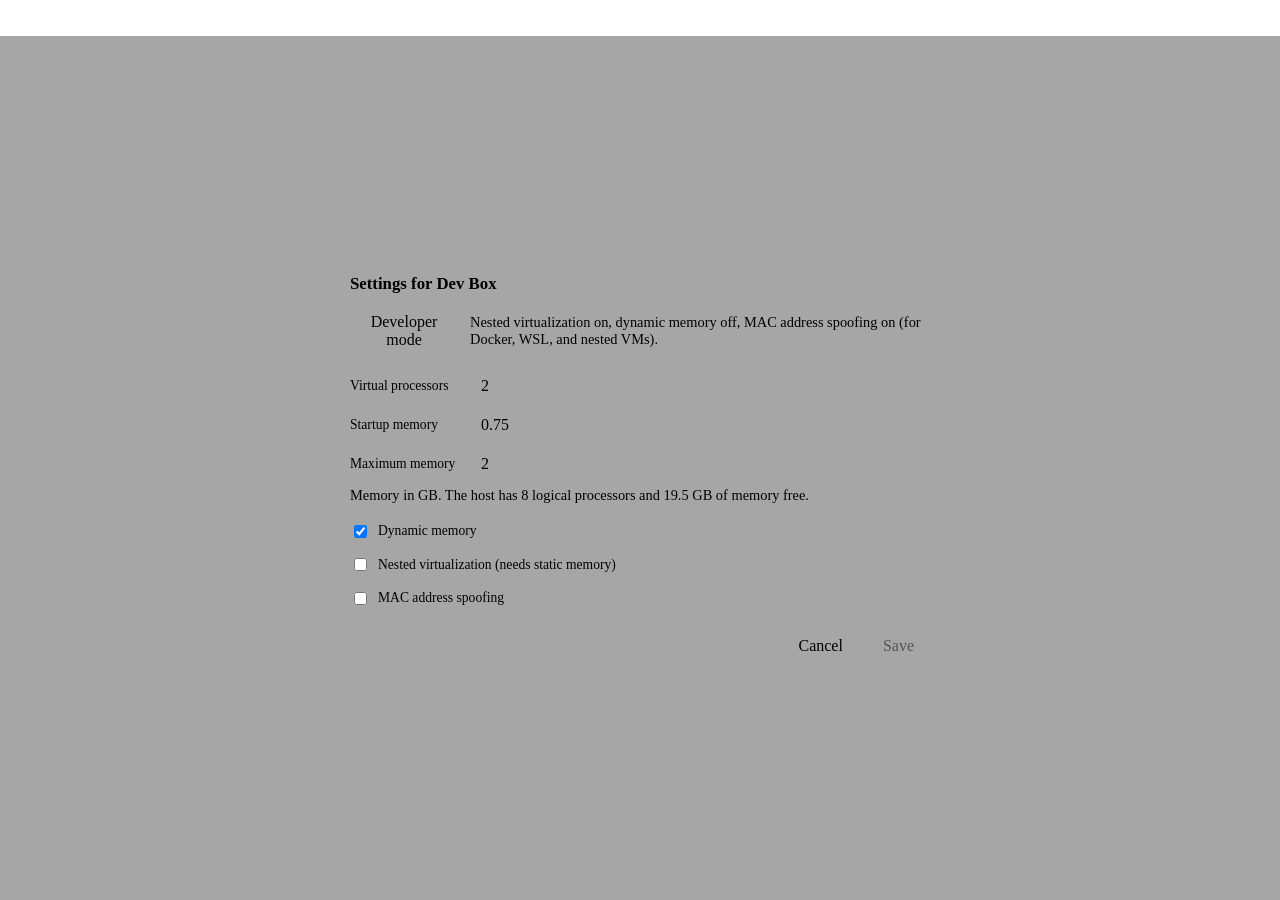
it: ComputeDialog › Developer mode turns on nested virtualization and MAC spoofing and turns off dynamic memory
The image size is (1280, 900).
Click the button "Developer mode" at (404, 331), box [350,306,458,356]
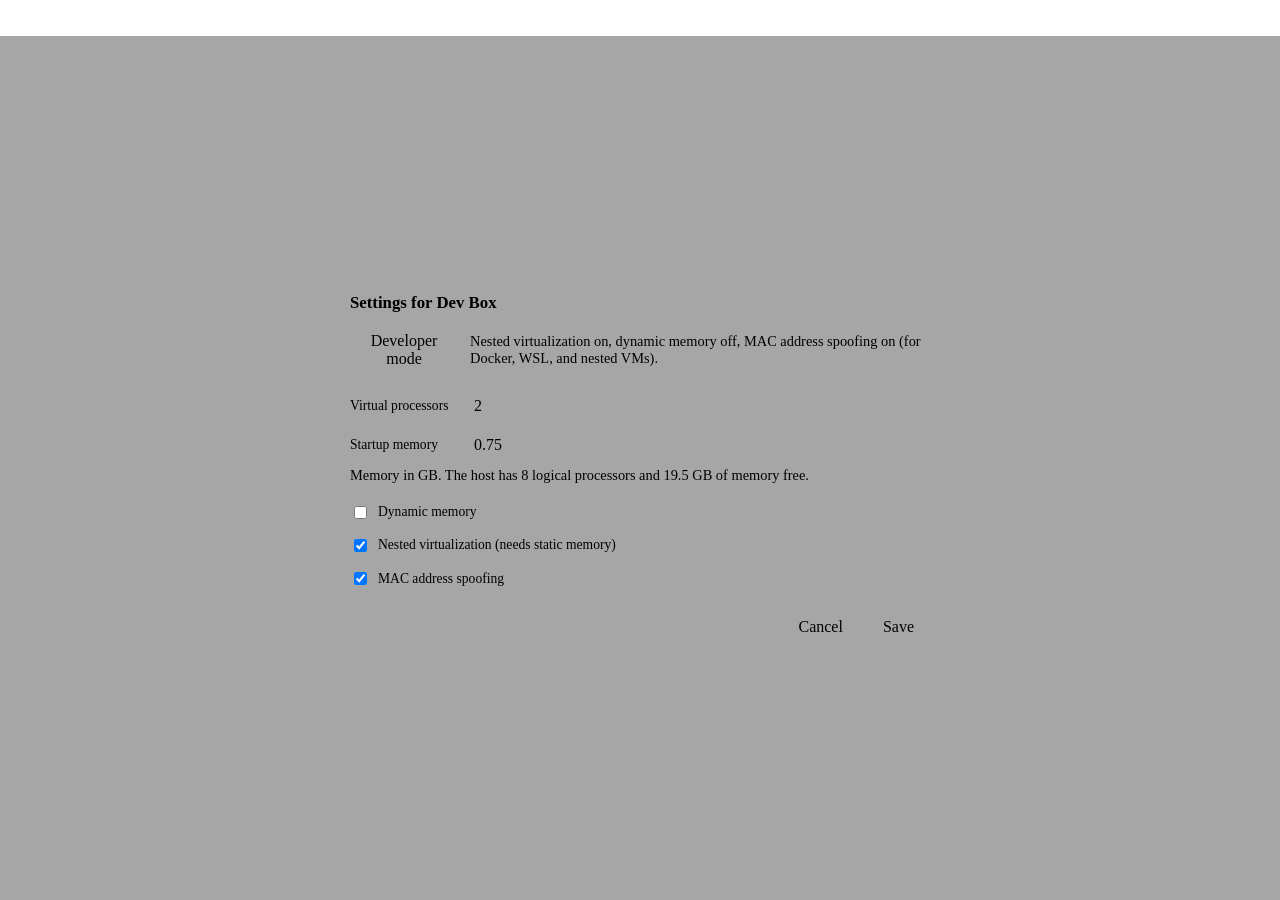
Click the button "Save" at (898, 627), box [867,611,930,643]
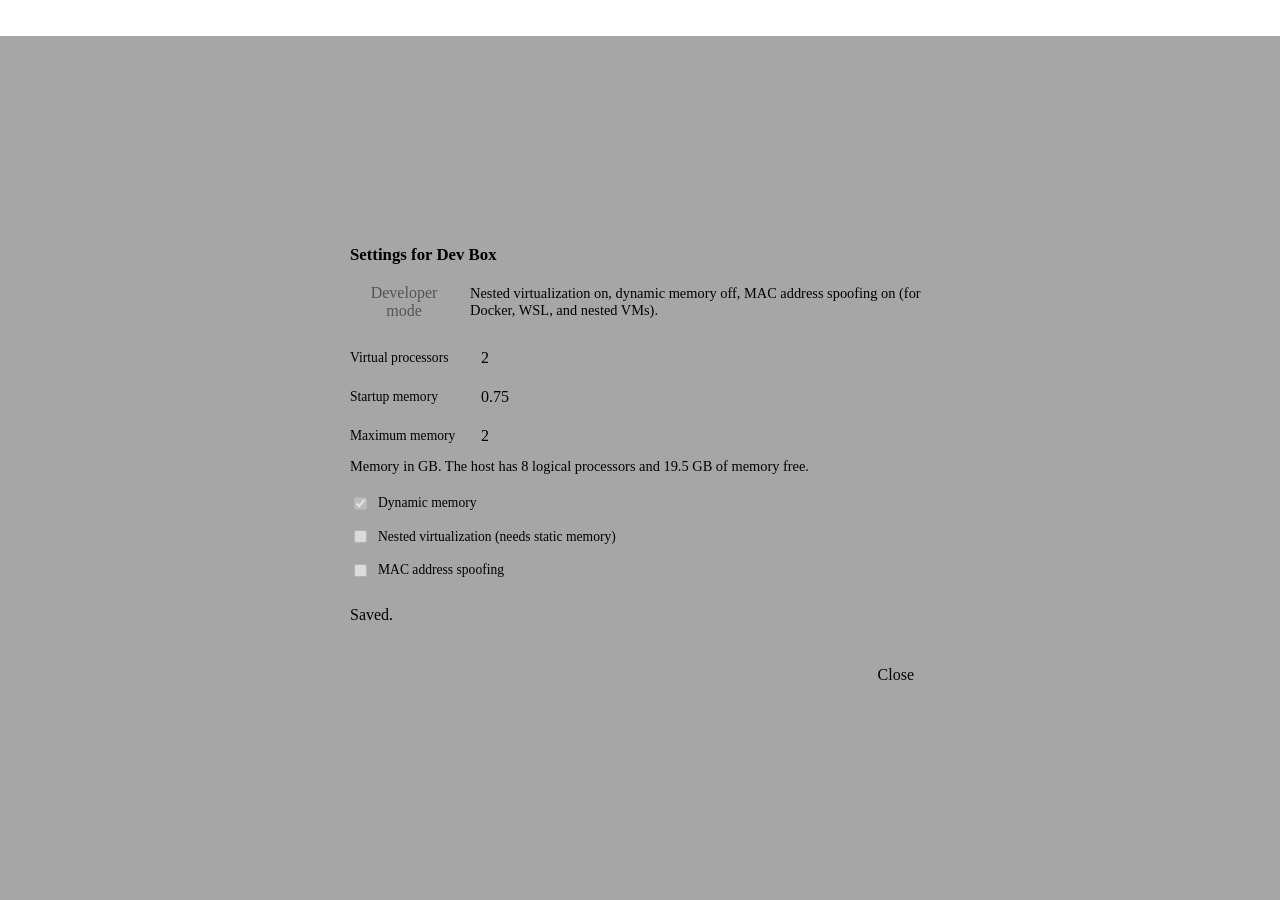
expect the text "Saved." is shown: met, box [350,606,393,623]
